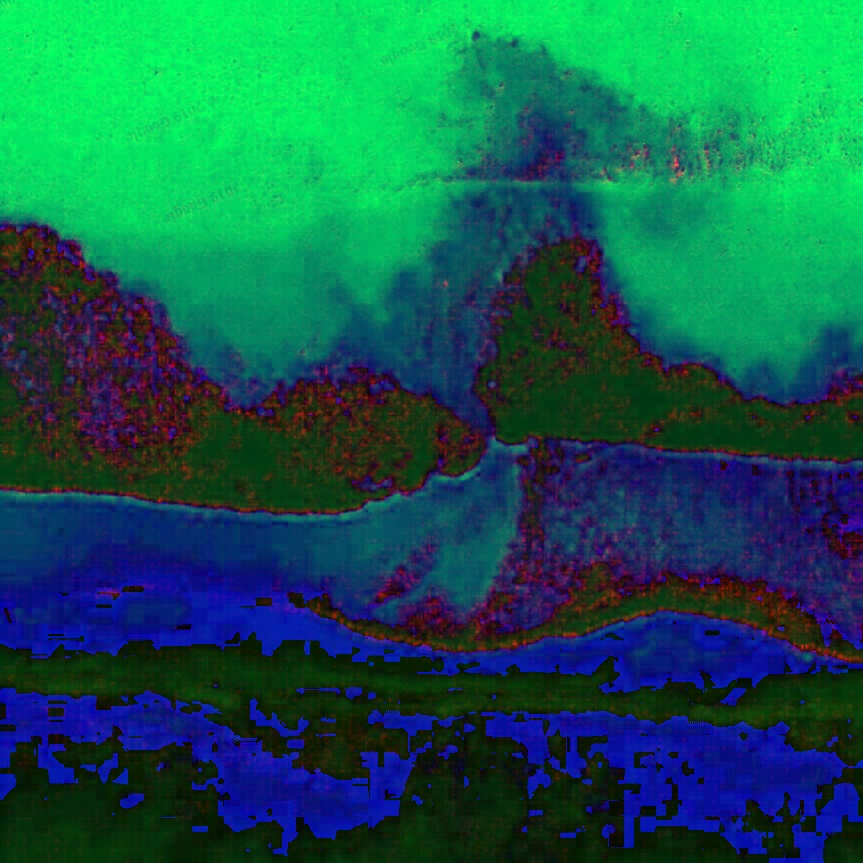rip_current: (384, 30, 607, 645)
